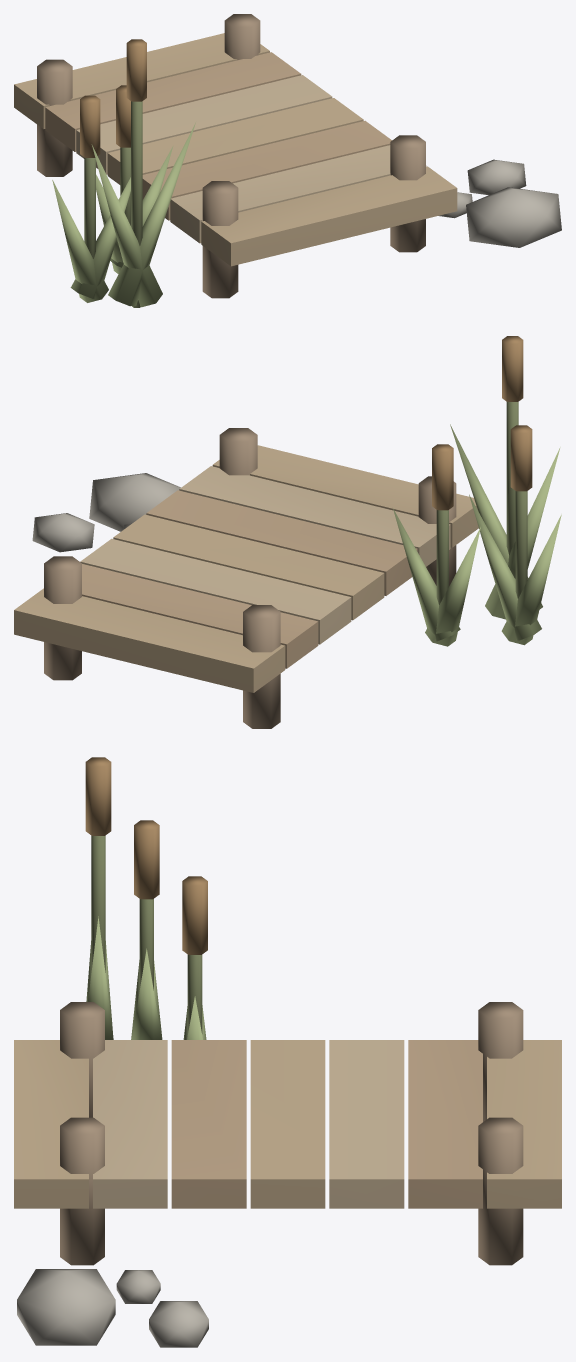
Rendered from terrain-pond-landing.glb.
The picture shows the model from 3 angles, top to bottom: view 1: azimuth 30°, elevation 25°; view 2: azimuth 150°, elevation 25°; view 3: azimuth 270°, elevation 25°; orthographic projection. The views are drawn at different scales.
Visible parts, largest first — view 1: terrain-pond-landing; view 2: terrain-pond-landing; view 3: terrain-pond-landing.
Boxes of the visible parts, x1=… form: terrain-pond-landing: x1=14, y1=14, x2=561, y2=307; terrain-pond-landing: x1=14, y1=336, x2=561, y2=728; terrain-pond-landing: x1=14, y1=757, x2=561, y2=1347.
Bounding box in the file's own units: 0.8782 × 0.4895 × 0.681.
